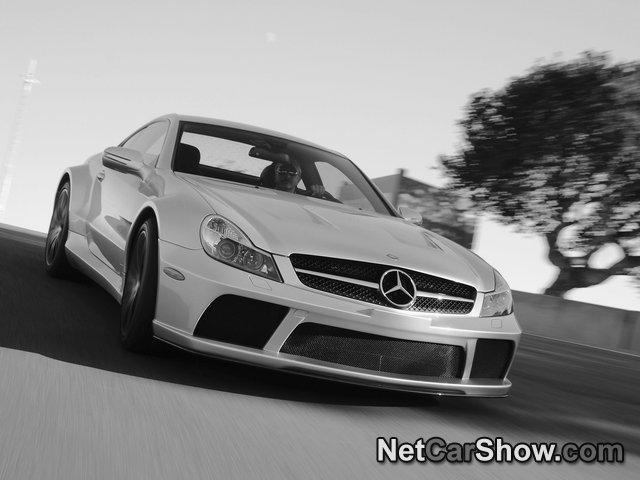car: (42, 111, 521, 409)
